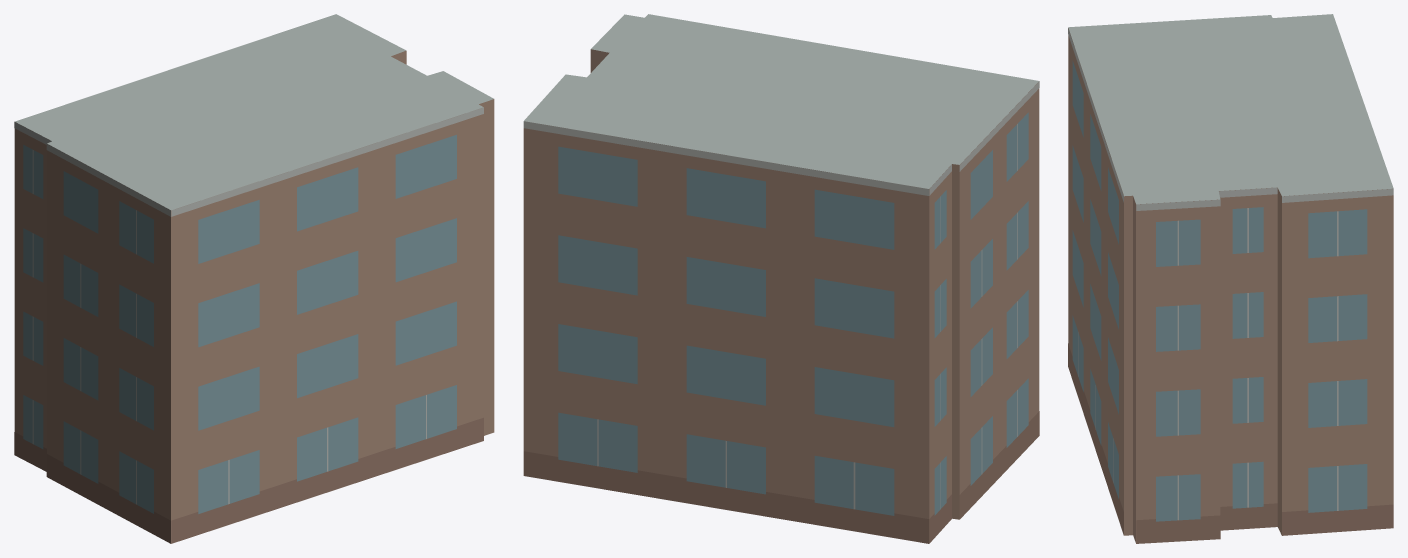
The model's file is survey-upis-32707576.glb.
3 views of the same model, side by side, from view 1: azimuth 30°, elevation 25°; view 2: azimuth 150°, elevation 25°; view 3: azimuth 270°, elevation 25° (orthographic). The views are drawn at different scales.
Parts seen in each view (by area): view 1: survey-upis-32707576.tmp; view 2: survey-upis-32707576.tmp; view 3: survey-upis-32707576.tmp.
Boxes of the visible parts, x1,y1,x2,y2 form: survey-upis-32707576.tmp: [14, 14, 494, 543]; survey-upis-32707576.tmp: [523, 14, 1039, 543]; survey-upis-32707576.tmp: [1068, 14, 1393, 543].
Size of the model in its own units: 14.8 by 12.3 by 10.7.
